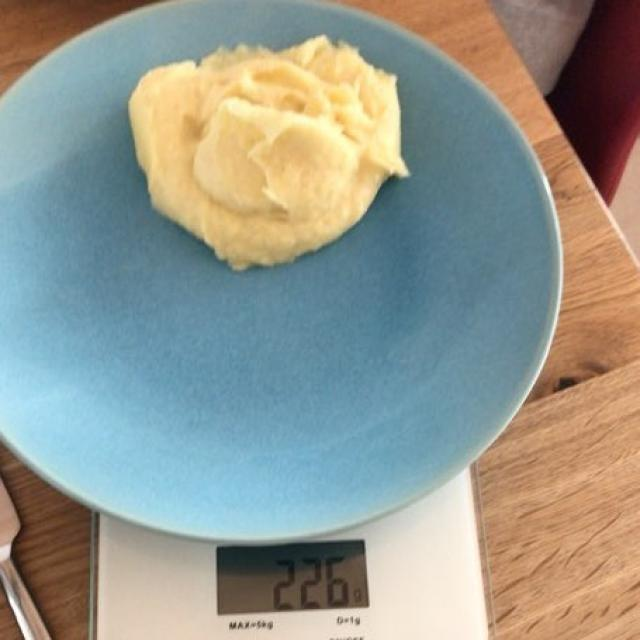mashed-potatoes: (130, 36, 404, 268)
